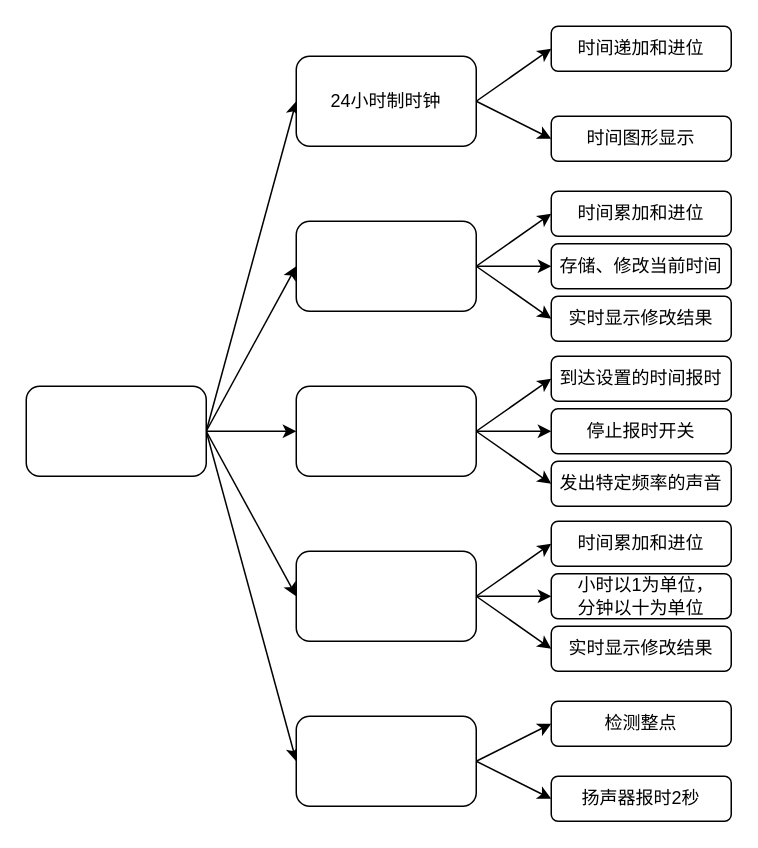
This 758x848 diagram has some shape labels left out. The centre of each missing label's shape, as x and y in pixels:
"实现功能" belongs at (115,430).
"整点报时" belongs at (385,760).
"设置闹钟" belongs at (385,595).
"调整时钟时间" belongs at (385,265).
"闹钟" belongs at (385,430).
